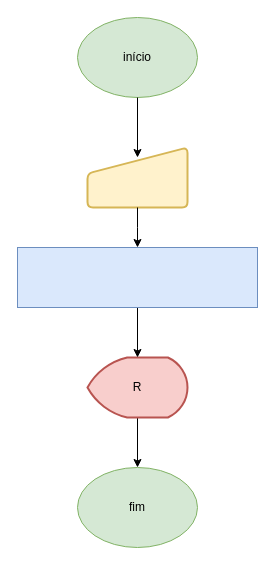
The diagram is 275 pixels wide and 565 high, and some of its shapes have lost their labels. Here are the shapes that lost their labels. From the top down, the box of each, then its label:
(86, 146, 188, 208): Nome, Pc, Pb, Ps, Qc, Qb, Qs
(16, 246, 258, 308): R = (Pc * Qc + Pb * Qb +Ps * Qs) * 0.12
